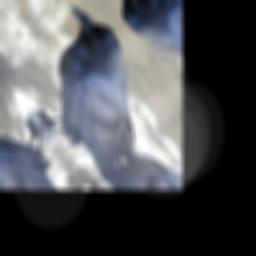Crow: (0, 0, 176, 189)
